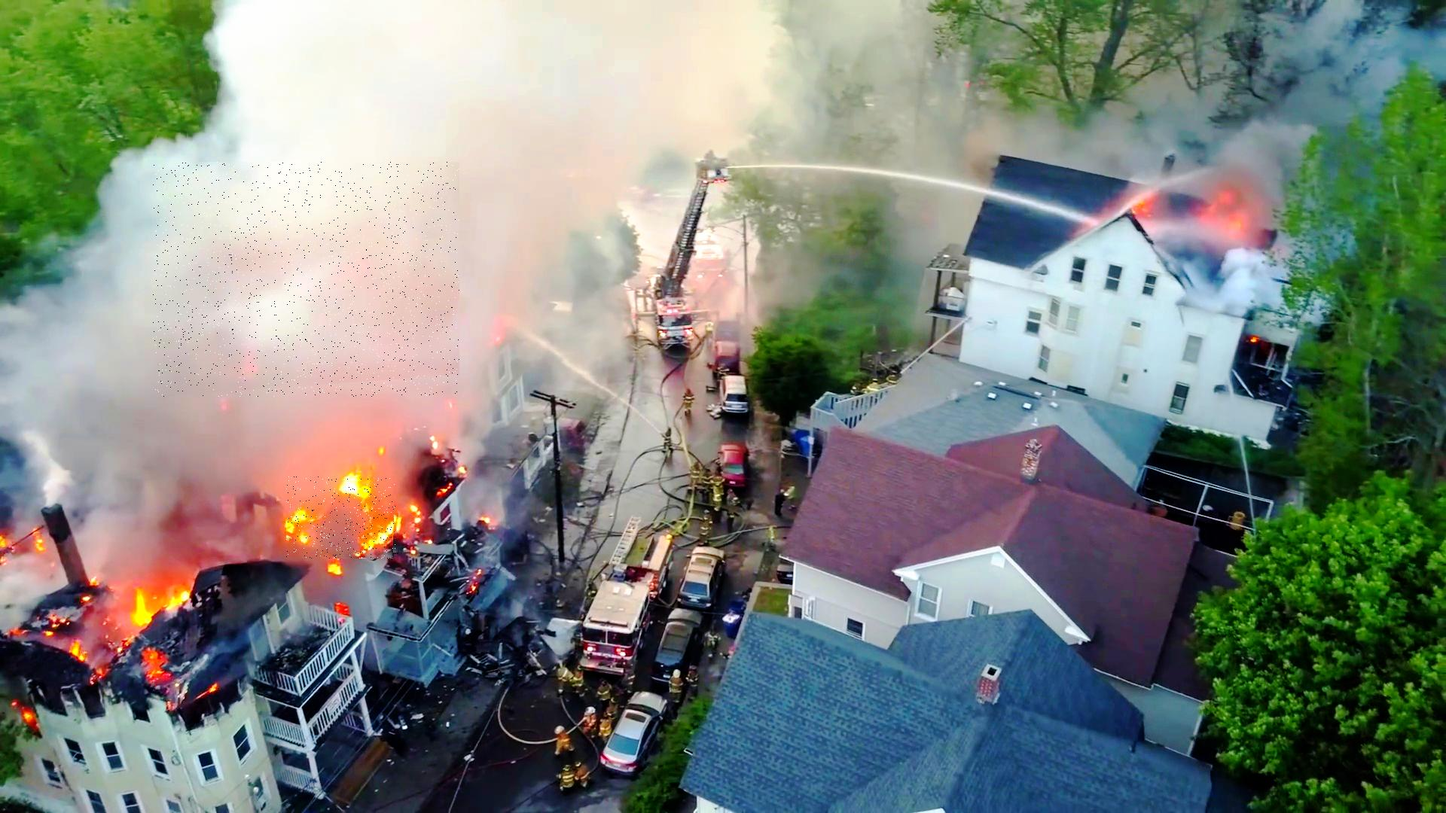fire: (287, 477, 396, 559)
smoke: (153, 162, 460, 397)
